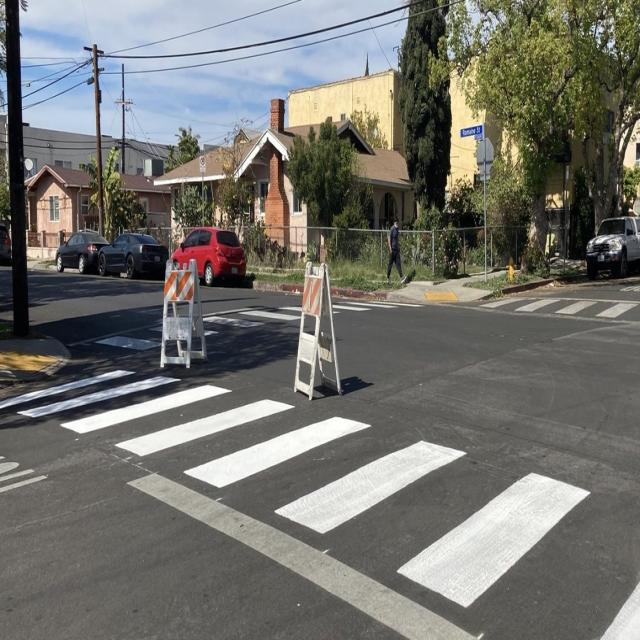road_crosswalk: (2, 361, 640, 640)
